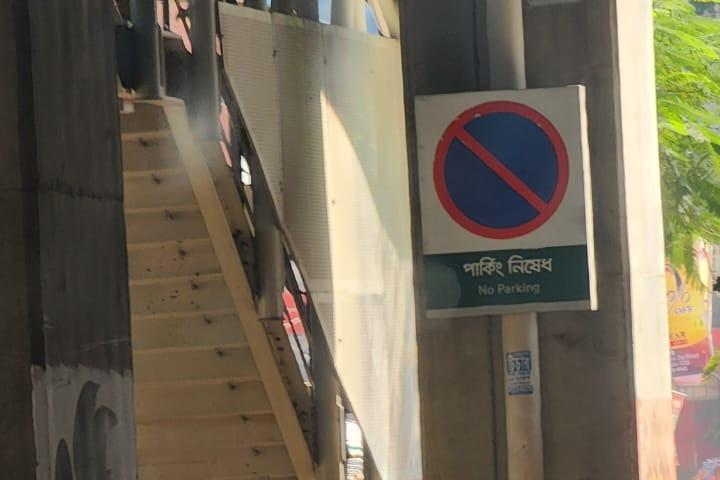No Parking: (415, 85, 597, 319)
